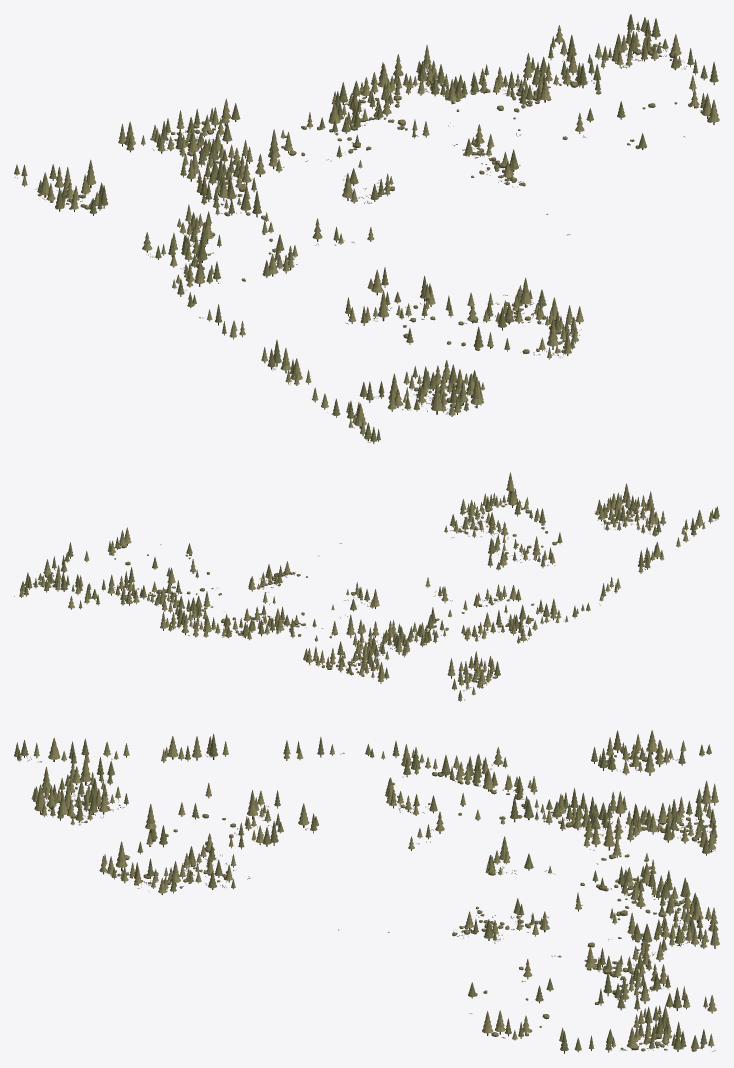
The model's file is Foliage_P3.fbx.
3 renders of one model, top to bottom at view 1: azimuth 30°, elevation 25°; view 2: azimuth 150°, elevation 25°; view 3: azimuth 270°, elevation 25°, orthographic. The views are drawn at different scales.
Size of the model in its own units: 61444 by 6056 by 61242.
